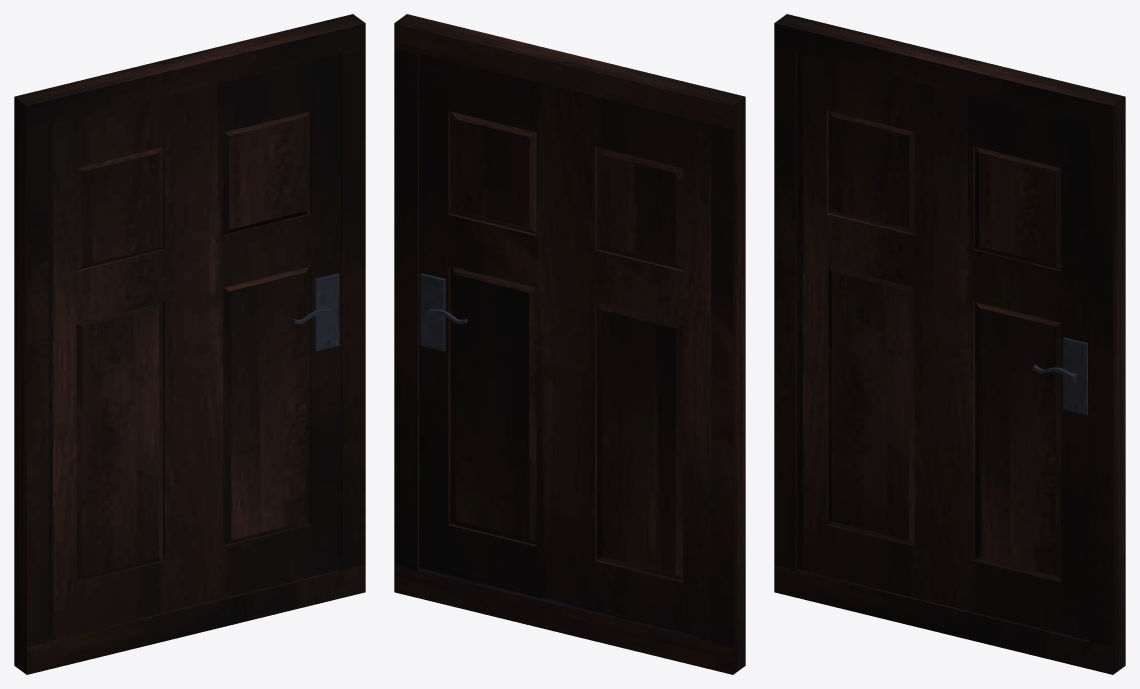
Rendered from Unwrapped_Wooden_door.FBX.
3 views of the same model, side by side, from view 1: azimuth 30°, elevation 25°; view 2: azimuth 150°, elevation 25°; view 3: azimuth 330°, elevation 25° (orthographic).
Visible parts, largest first — view 1: Box001; view 2: Box001; view 3: Box001.
Boxes of the visible parts, left/top/right/bottom form: Box001: left=14, top=14, right=365, bottom=674; Box001: left=394, top=14, right=745, bottom=674; Box001: left=774, top=14, right=1125, bottom=674.
Bounding box in the file's own units: 43.85 × 70.36 × 4.93.
